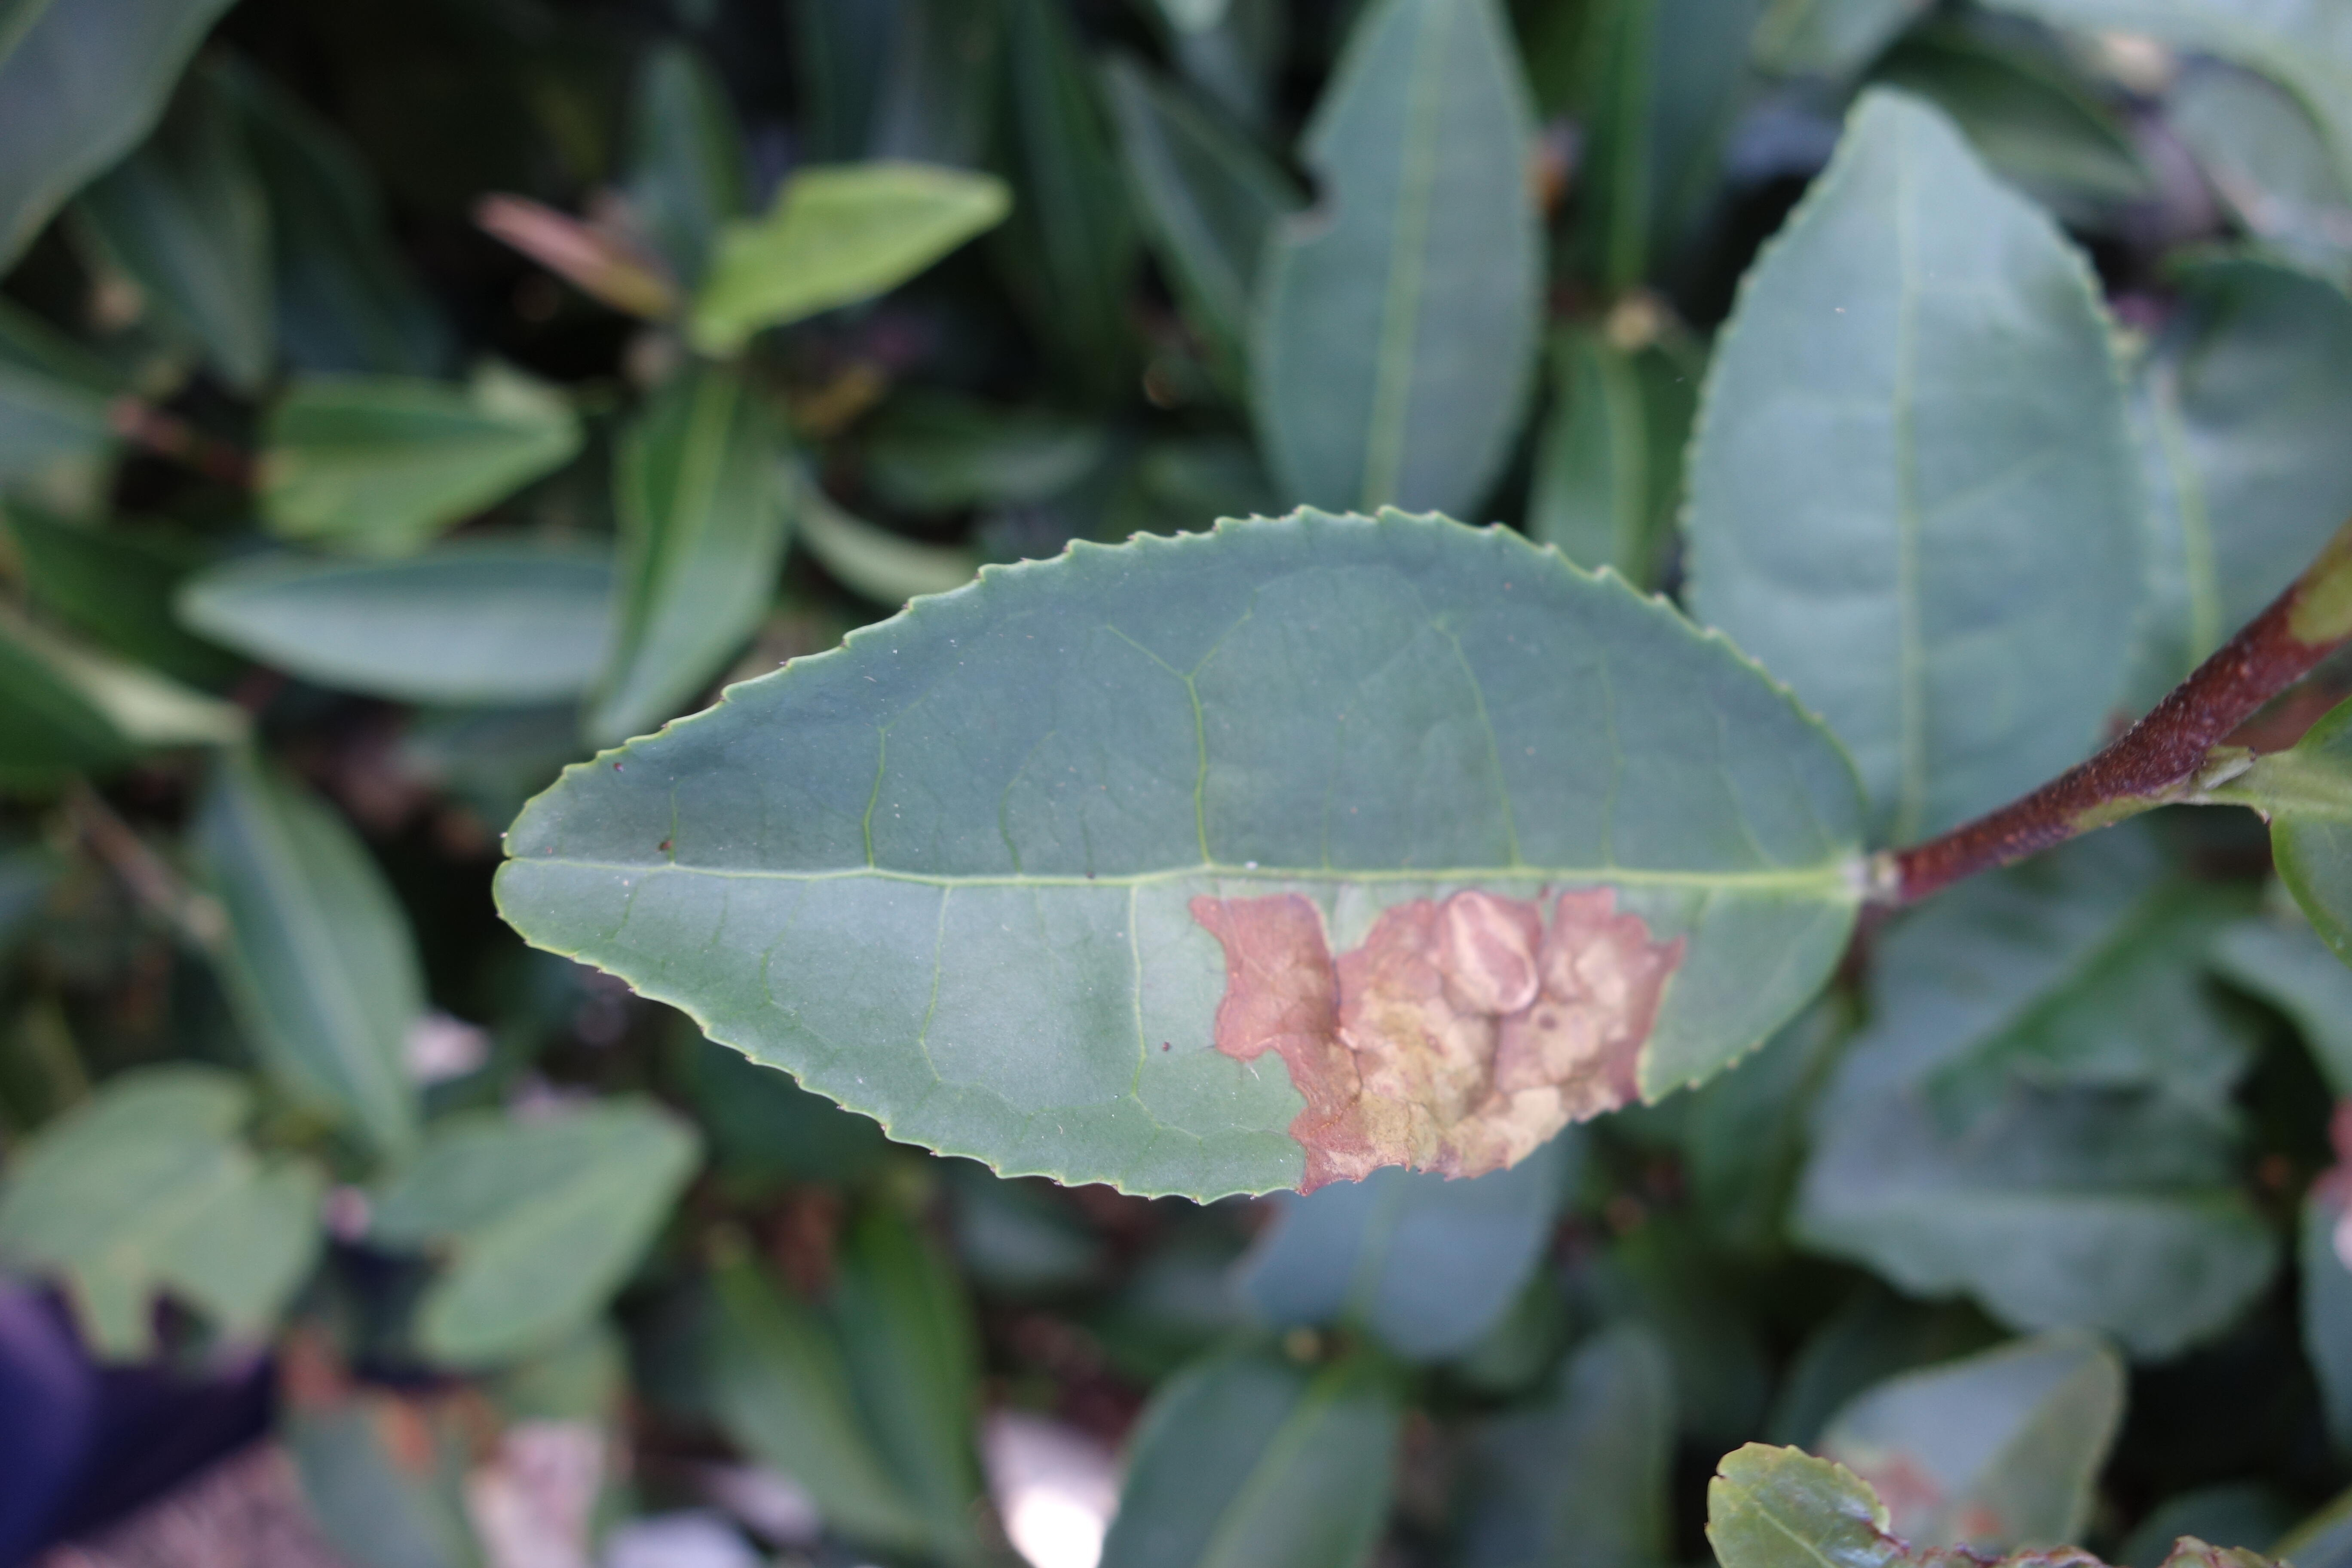tanju_high: (490, 502, 1886, 1204)
